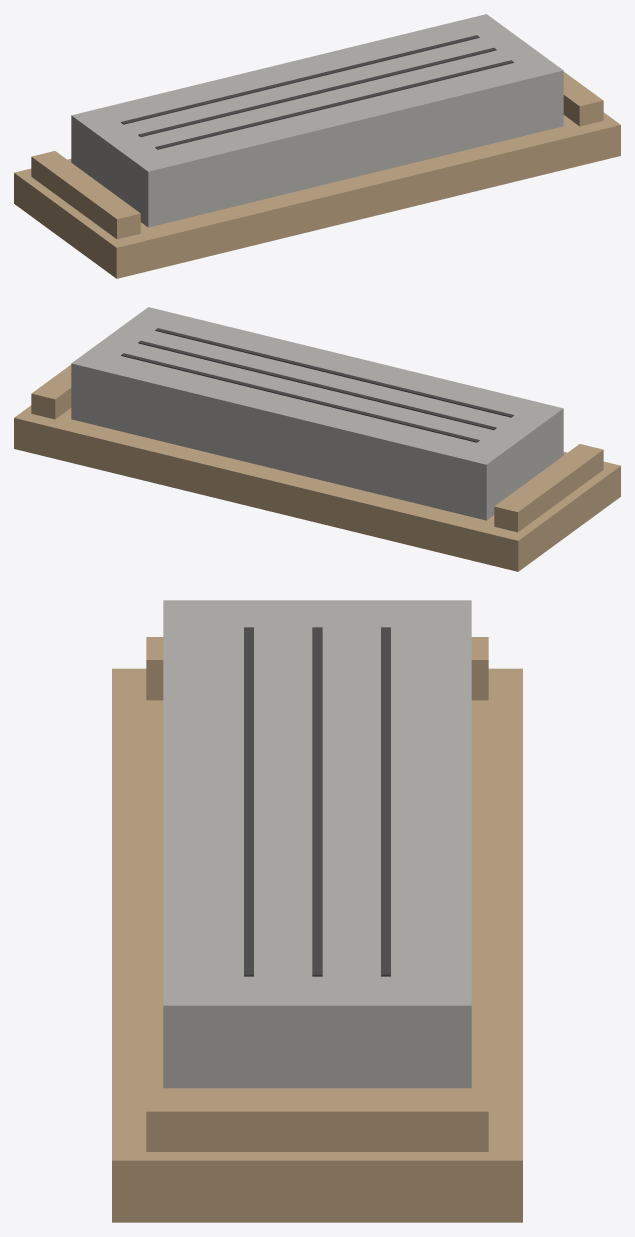
File: prop-needle-polish-stone.fbx
3 renders of one model, top to bottom at view 1: azimuth 30°, elevation 25°; view 2: azimuth 150°, elevation 25°; view 3: azimuth 270°, elevation 25°, orthographic. The views are drawn at different scales.
Visible parts, largest first — view 1: prop-needle-polish-stone; view 2: prop-needle-polish-stone; view 3: prop-needle-polish-stone.
Part boxes in pixels (bbox=[...]): prop-needle-polish-stone: bbox=[14, 14, 620, 278]; prop-needle-polish-stone: bbox=[14, 307, 620, 571]; prop-needle-polish-stone: bbox=[112, 600, 522, 1222].
Bounding box in the file's own units: 17 × 2.83 × 6.
